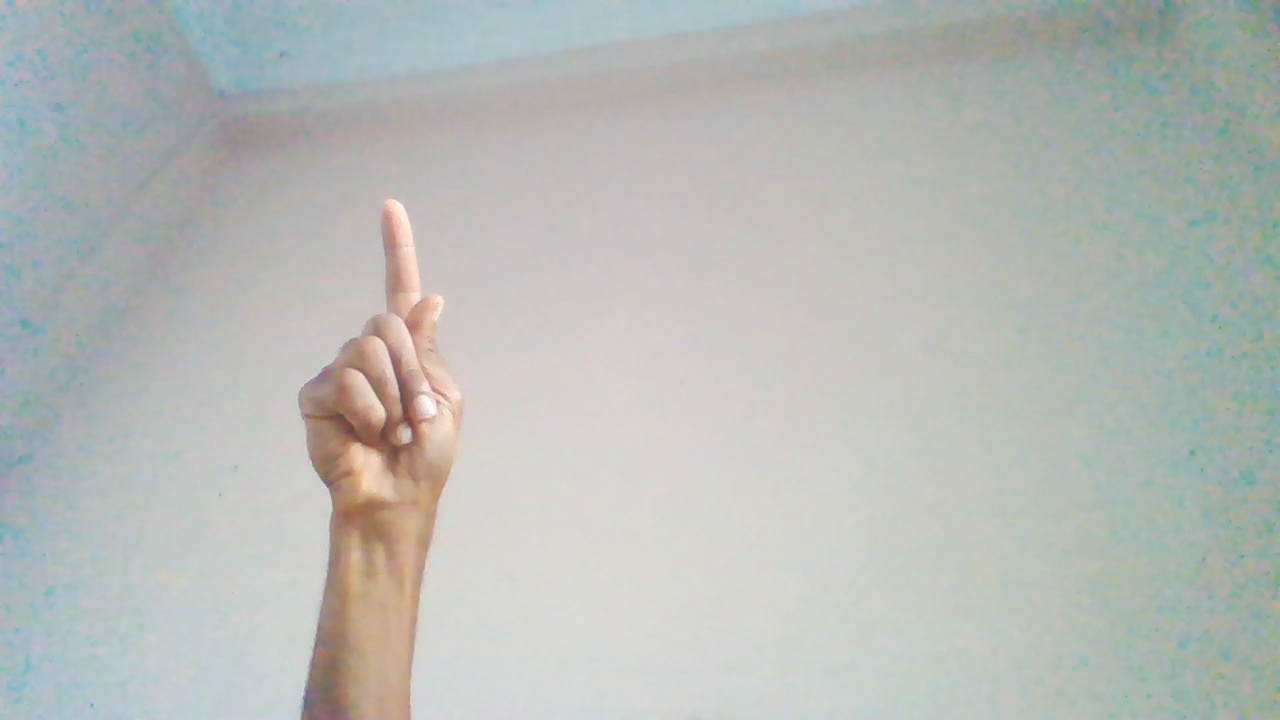ne: (292, 201, 461, 597)
